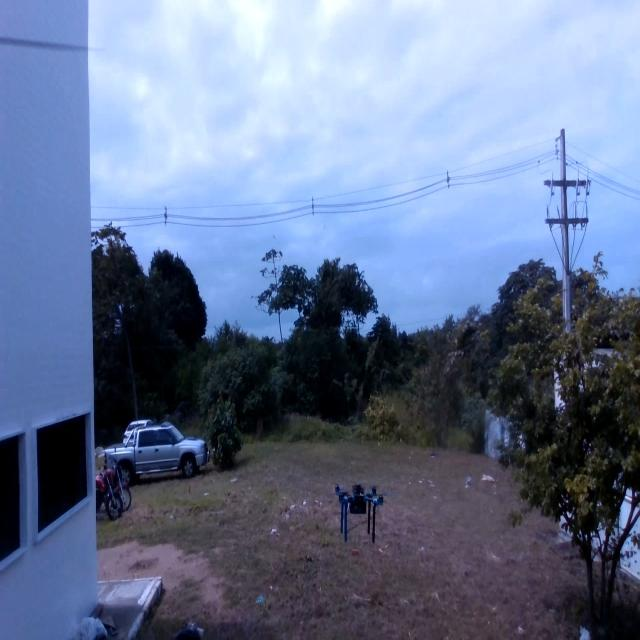-uav-: (328, 459, 387, 556)
